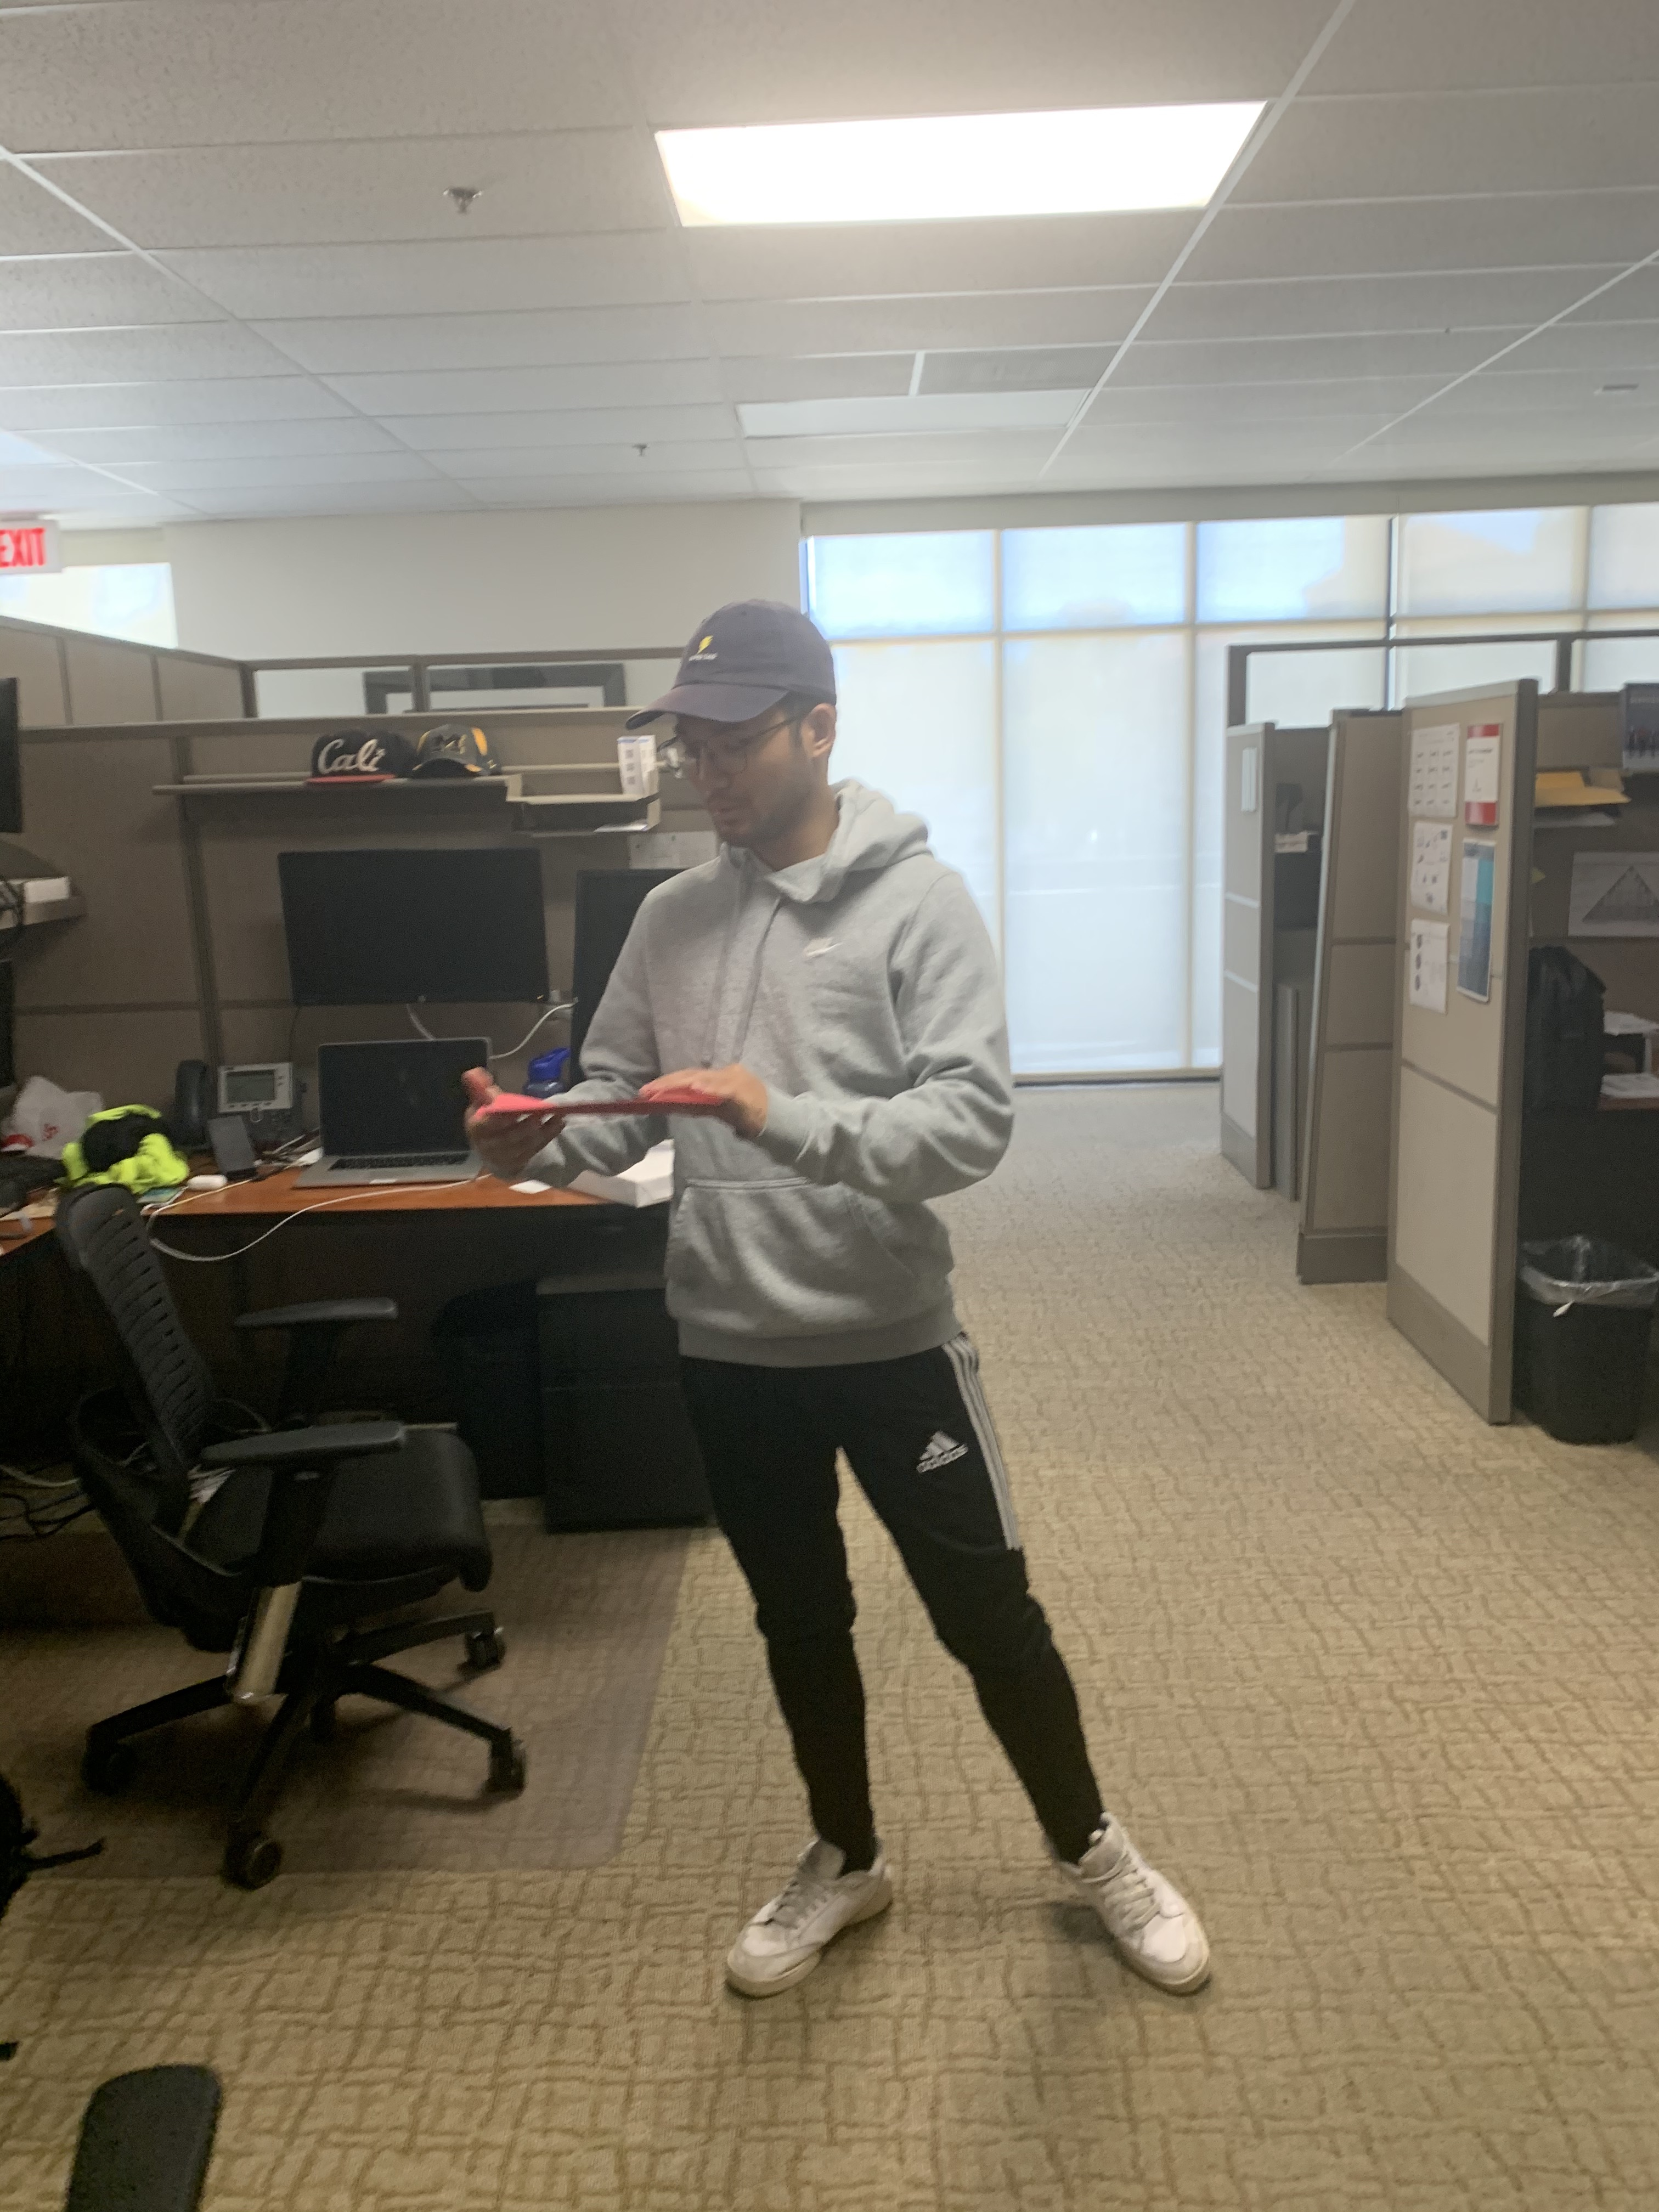red folder: (465, 1055, 746, 1137)
